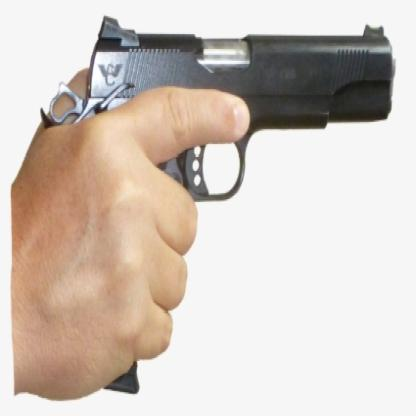handgun: (72, 15, 394, 392)
